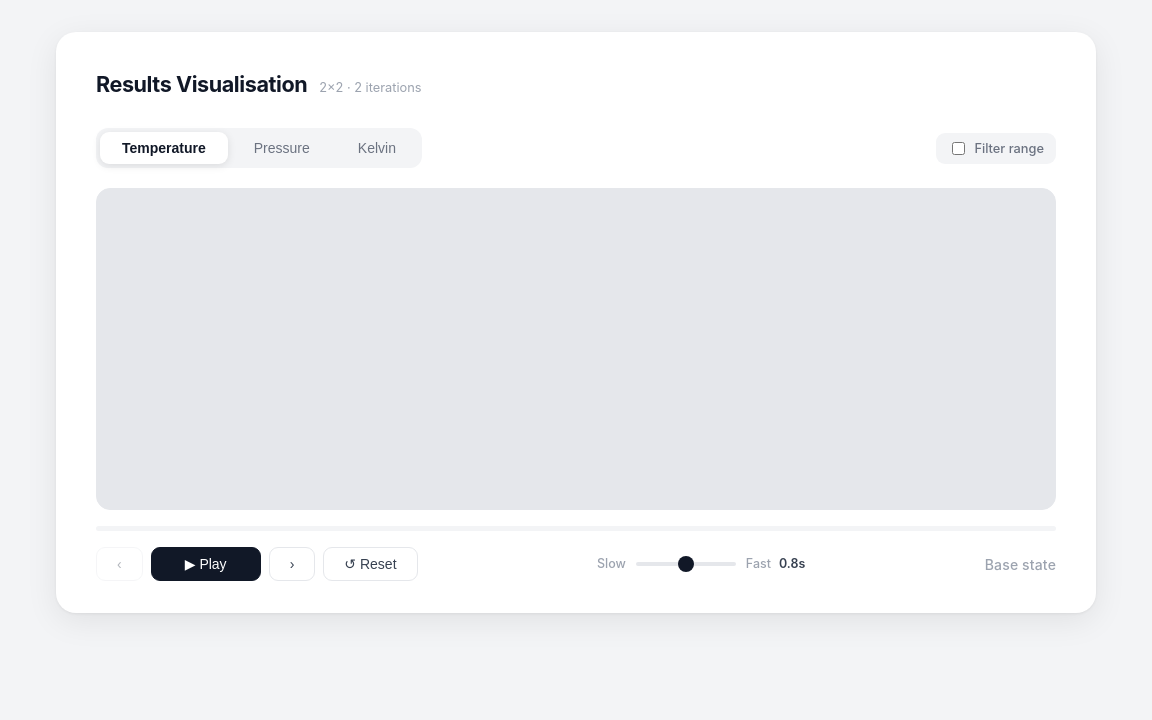
Test case: ResultsVisualization — loaded state › reset returns to base state
Click the button titled "step forward": (292, 564) top-left (269, 547), bottom-right (315, 581)
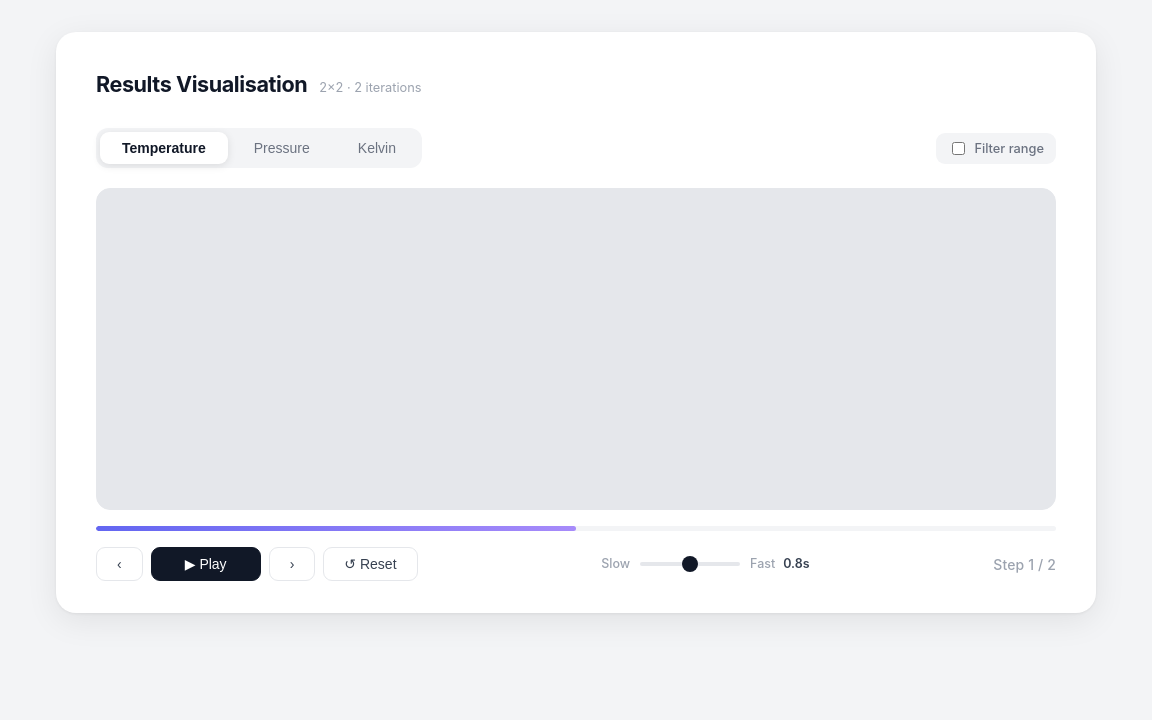
Check: the text "Step 1 / 2" is shown, box top-left (993, 554), bottom-right (1056, 575)
Click the button titled "reset": (370, 564) top-left (323, 547), bottom-right (418, 581)
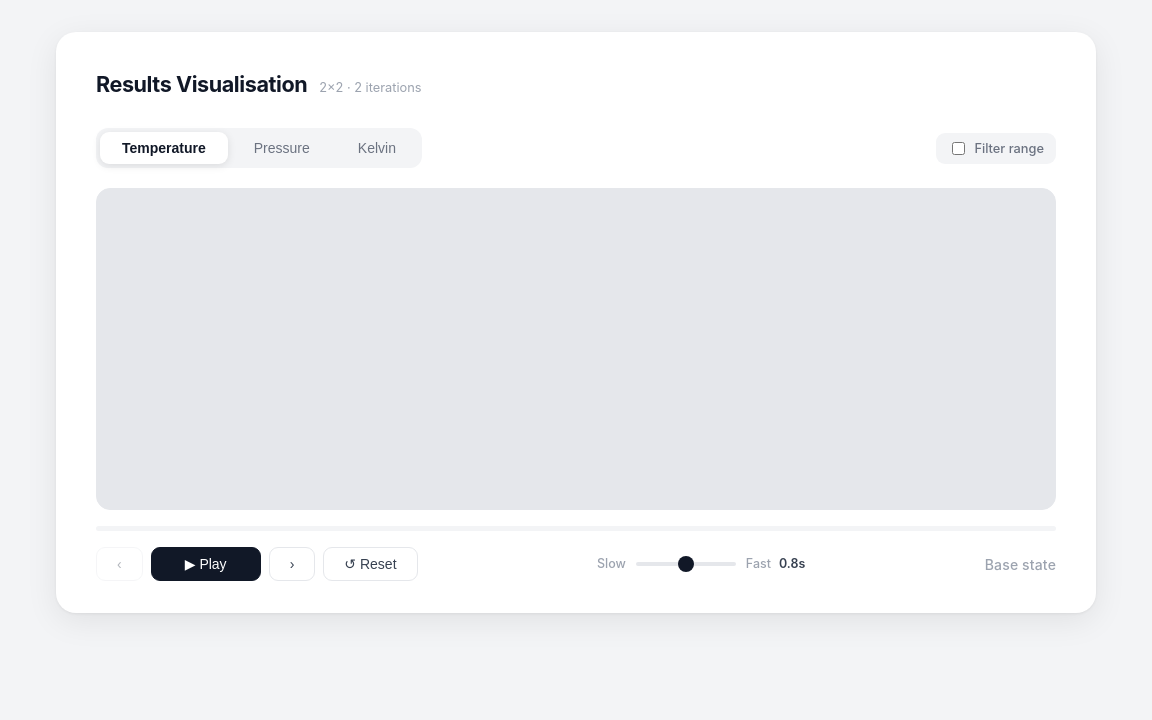
Check: the text "Base state" is shown, box top-left (985, 554), bottom-right (1056, 575)
